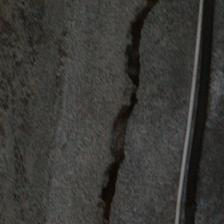Crack: (48, 2, 113, 216)
